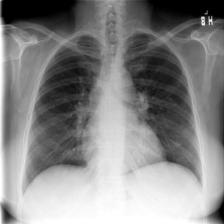normal: (15, 28, 209, 203)
